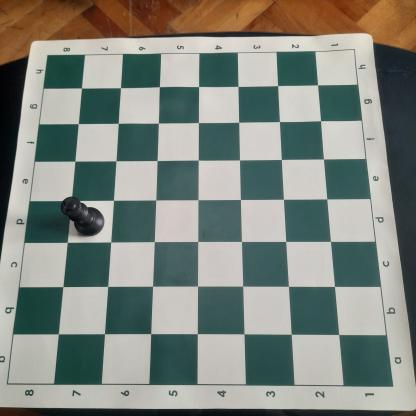black-king: (60, 195, 106, 238)
